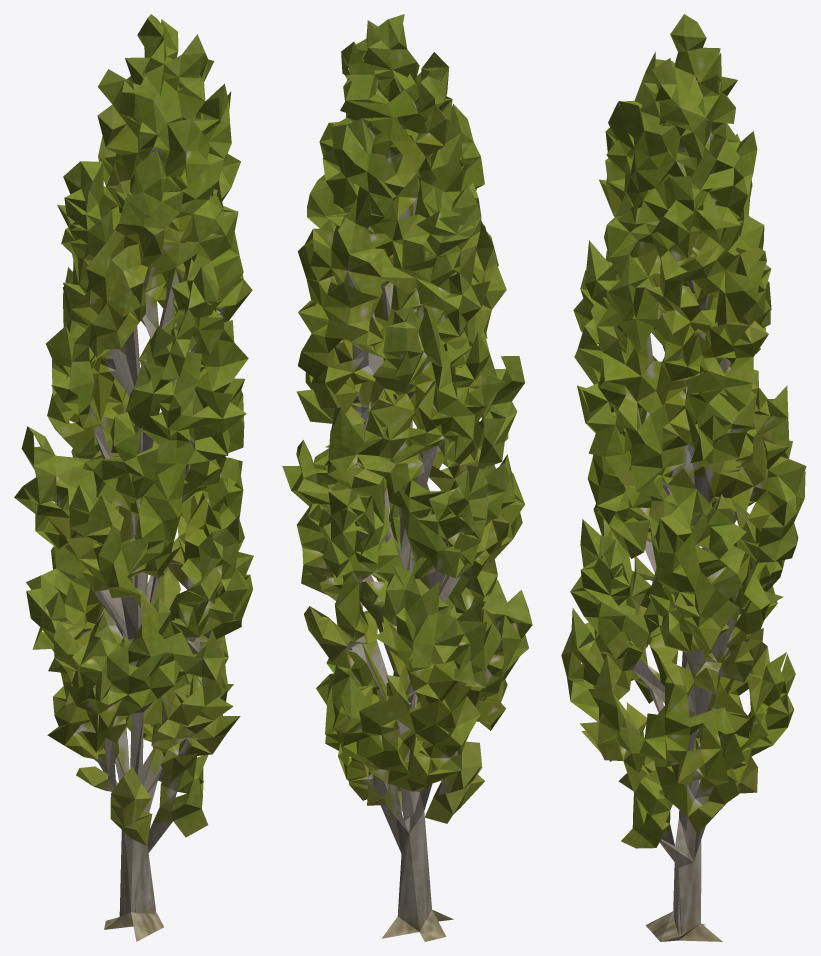
Rendered from tree_poplar.obj.
The picture shows the model from 3 angles, left to right: view 1: azimuth 30°, elevation 25°; view 2: azimuth 150°, elevation 25°; view 3: azimuth 270°, elevation 25°; orthographic projection. The views are drawn at different scales.
Visible parts, largest first — view 1: tree_poplar; view 2: tree_poplar; view 3: tree_poplar.
Boxes of the visible parts, box(x1,y1,x2,y2) form: tree_poplar: box(14, 14, 253, 941); tree_poplar: box(282, 14, 532, 941); tree_poplar: box(561, 14, 806, 941).
Bounding box in the file's own units: 3.85 × 16 × 3.84.
1 material, 1 textured.
